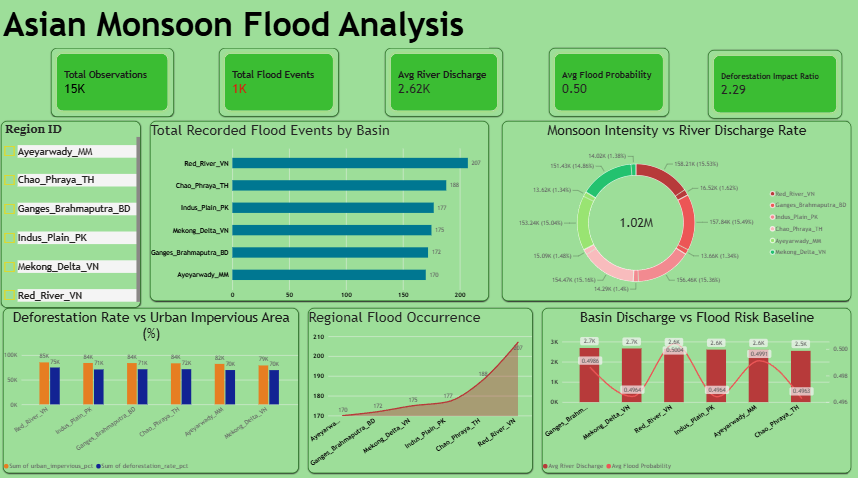

Layout of this report page (visuals, bound fields, positions):
{"tool":"powerbi","page":{"name":"Page 1","canvas":[1920,1080],"ordinal":0},"visuals":[{"type":"cardVisual","fields":{"Data":["data_source.Total Observations"]},"box":[118,118,272.5,152.5],"z":0},{"type":"cardVisual","fields":{"Data":["data_source.Total Flood Events"]},"box":[490,118,266.2,152.4],"z":1000},{"type":"cardVisual","fields":{"Data":["data_source.Avg River Discharge"]},"box":[860,118,262.1,152.3],"z":2000},{"type":"cardVisual","fields":{"Data":["data_source.Avg Flood Probability"]},"box":[1224,118,266.6,152.3],"z":3000},{"type":"cardVisual","fields":{"Data":["data_source.Deforestation Impact Ratio"]},"box":[1578.8,122.8,298,152.4],"z":4000},{"type":"textbox","title":"Asian Monsoon Flood Analysis","box":[10,20,1080,97.5],"z":5000},{"type":"slicer","fields":{"Values":["data_source.region_id"]},"box":[7.5,280,310,415],"z":6000},{"type":"clusteredBarChart","title":"Total Recorded Flood Events by Basin","fields":{"Category":["data_source.region_id"],"Y":["data_source.Total Flood Events"]},"box":[337.5,280,753.2,400.1],"z":7000},{"type":"lineClusteredColumnComboChart","title":"Basin Discharge vs Flood Risk Baseline","fields":{"Category":["data_source.region_id"],"Y":["data_source.Avg River Discharge"],"Y2":["data_source.Avg Flood Probability"]},"box":[1209.6,695.5,686.9,367.2],"z":8000},{"type":"donutChart","title":"Monsoon Intensity vs River Discharge Rate","fields":{"Category":["data_source.region_id"],"Series":["data_source.flood_target_binary"],"Y":["Sum(data_source.monsoon_intensity_index)"]},"box":[1121,280.8,775.6,400.1],"z":9000},{"type":"clusteredColumnChart","title":"Deforestation Rate vs Urban Impervious Area (%)","fields":{"Category":["data_source.region_id"],"Y":["Sum(data_source.urban_impervious_pct)","Sum(data_source.deforestation_rate_pct)"]},"box":[10,696,656.6,367.2],"z":10000},{"type":"areaChart","title":"Regional Flood Occurrence","fields":{"Category":["data_source.region_id"],"Y":["Sum(data_source.flood_target_binary)"]},"box":[689,695.5,499,367.2],"z":10002}]}

Visuals, with their boxes in screenshot pixels (x1, y1, x2, y2), scaled from the page's 1920x1080 canvas onto the 858x478 screenshot:
cardVisual - data_source.Total Observations: <box>53,52,175,120</box>
cardVisual - data_source.Total Flood Events: <box>219,52,338,120</box>
cardVisual - data_source.Avg River Discharge: <box>384,52,501,120</box>
cardVisual - data_source.Avg Flood Probability: <box>547,52,666,120</box>
cardVisual - data_source.Deforestation Impact Ratio: <box>706,54,839,122</box>
"Asian Monsoon Flood Analysis" textbox: <box>4,9,487,52</box>
slicer - data_source.region_id: <box>3,124,142,308</box>
"Total Recorded Flood Events by Basin" clusteredBarChart: <box>151,124,487,301</box>
"Basin Discharge vs Flood Risk Baseline" lineClusteredColumnComboChart: <box>541,308,847,470</box>
"Monsoon Intensity vs River Discharge Rate" donutChart: <box>501,124,848,301</box>
"Deforestation Rate vs Urban Impervious Area (%)" clusteredColumnChart: <box>4,308,298,471</box>
"Regional Flood Occurrence" areaChart: <box>308,308,531,470</box>
